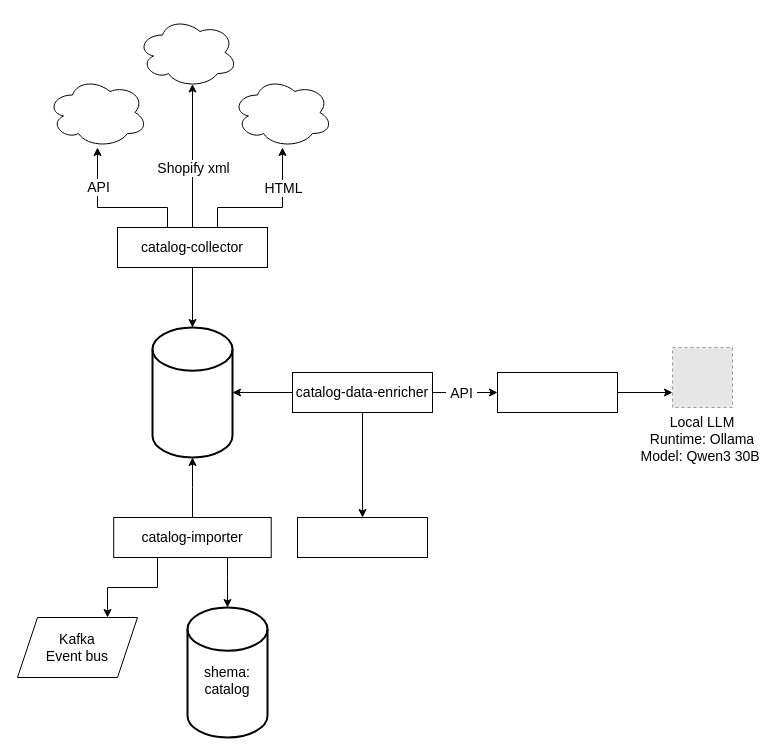
This 782x756 diagram has some shape labels left out. Grey dashed boxes stand in for pictures. The shapes that lost their labels are listed below. From the top down, each one's centre as x and y in pixels, then its label:
At point 192,392: "shema: Ingest".
At point 557,392: "ai-orchestrator".
At point 362,537: "catalog-api-service".
